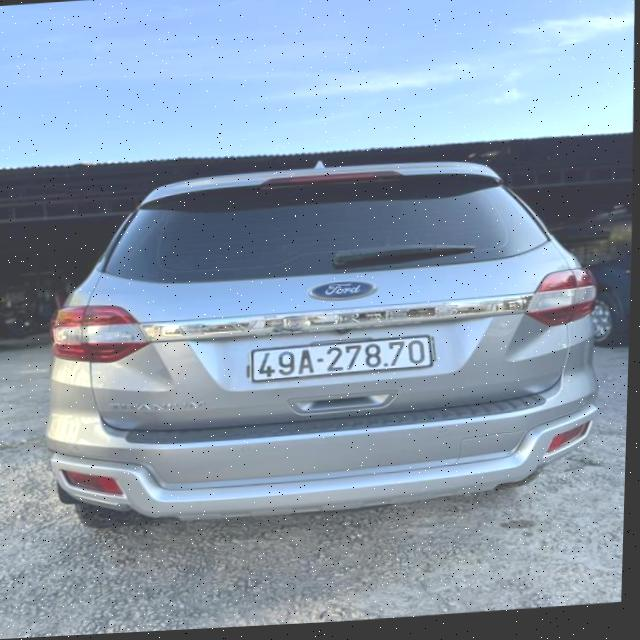car: (31, 116, 620, 534)
plate: (239, 321, 445, 392)
